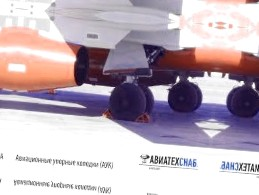chock: (135, 110, 153, 123), (101, 107, 117, 119)
wheel: (108, 81, 148, 123), (165, 80, 204, 115), (225, 85, 259, 120)
